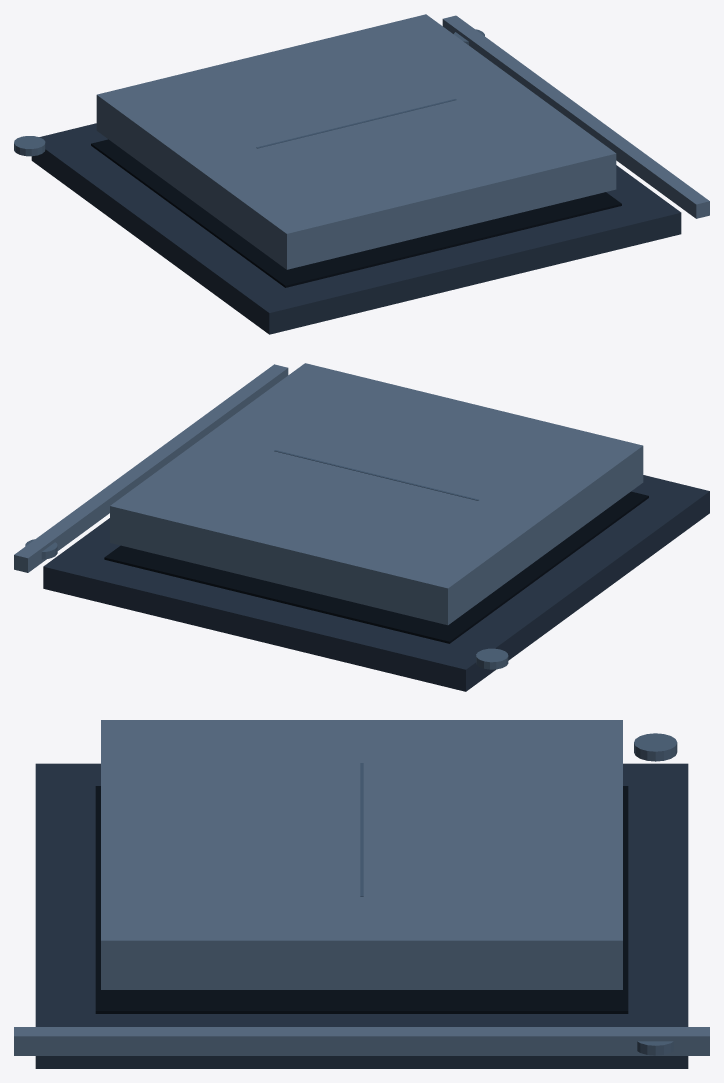
File: 102_L103_CPU_Socket_And_Load.fbx
The picture shows the model from 3 angles, top to bottom: view 1: azimuth 30°, elevation 25°; view 2: azimuth 150°, elevation 25°; view 3: azimuth 270°, elevation 25°; orthographic projection. The views are drawn at different scales.
Visible parts, largest first — view 1: 102_L103_CPU_Socket_And_Load; view 2: 102_L103_CPU_Socket_And_Load; view 3: 102_L103_CPU_Socket_And_Load.
Part boxes in pixels (x1,y1,x2,y2): 102_L103_CPU_Socket_And_Load: (14, 14, 709, 334); 102_L103_CPU_Socket_And_Load: (14, 363, 709, 691); 102_L103_CPU_Socket_And_Load: (14, 720, 709, 1068).
Bounding box in the file's own units: 6.8 × 1.03 × 6.4.
